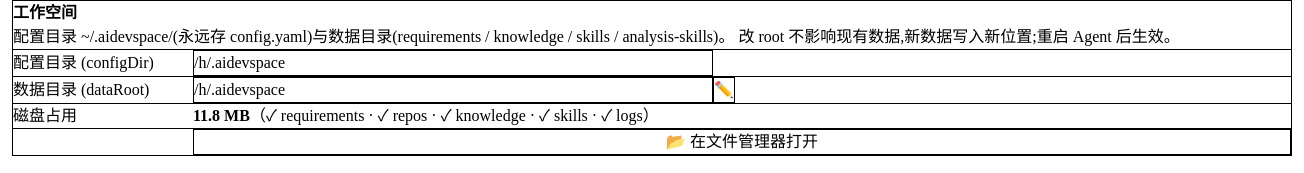
Test: WorkspaceSection 行内编辑 v2 (ADR-0037 D5) › case 6: validate 返 valid → 保存按钮启用
Click the button with test id "edit-workspace-root" at [724, 90], box [713,77,735,103]
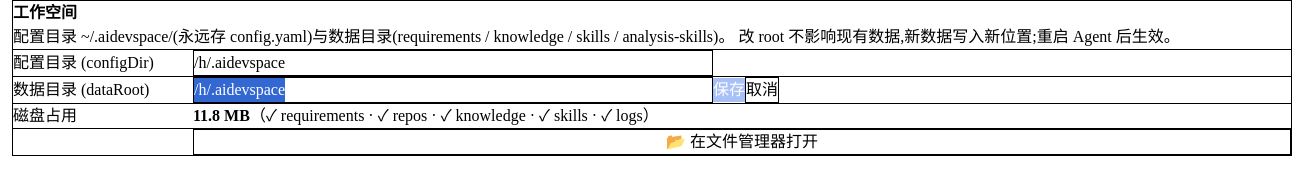
Replace the text in the field with test id "workspace-root" with "/new/valid/ws" at [453, 90], box [193,77,713,103]
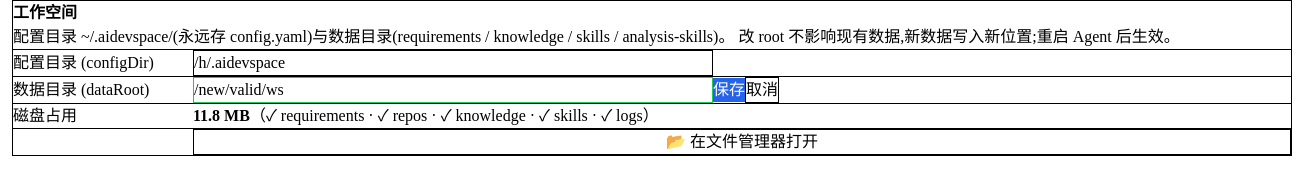
Expected: the button with test id "save-workspace-root" is enabled, [713,78,745,102]
